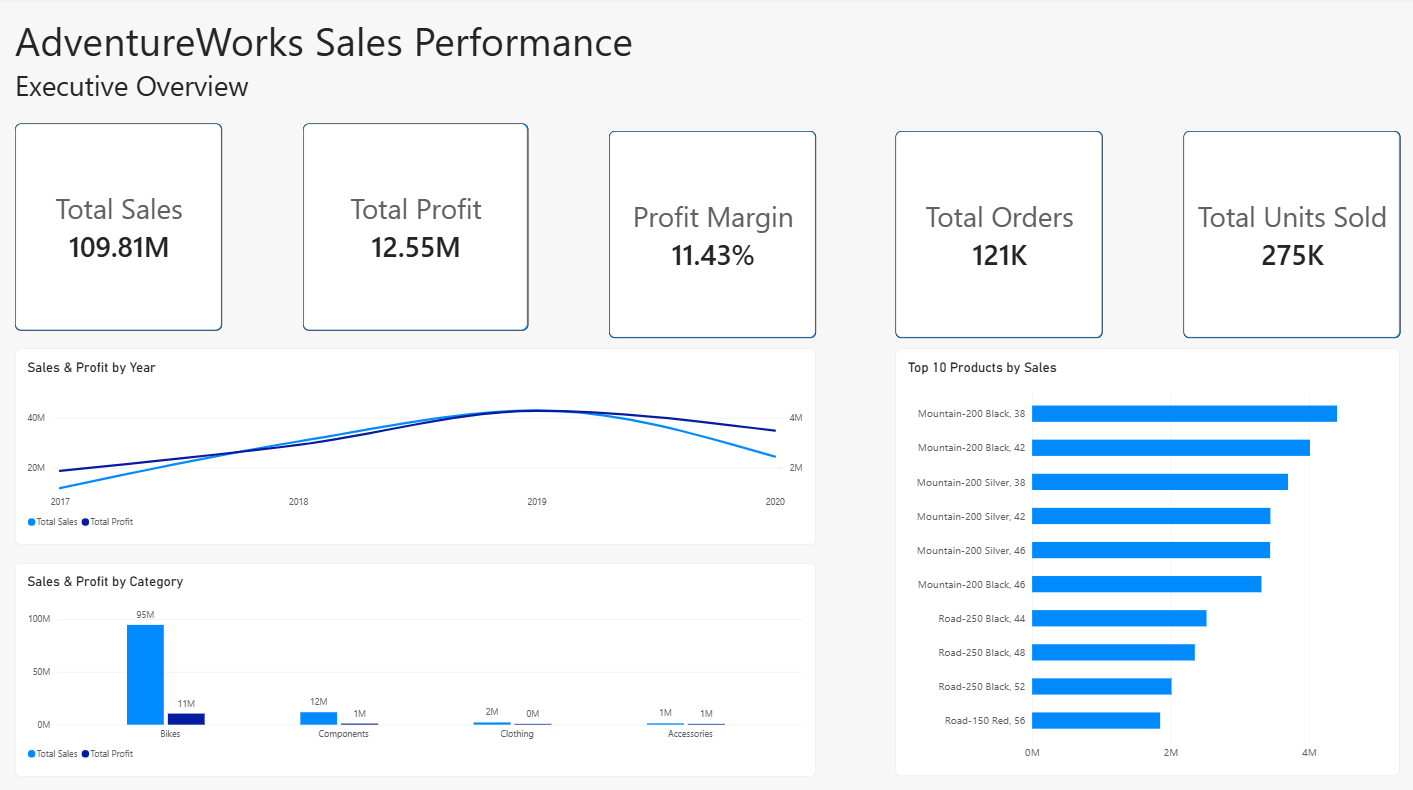

The dashboard page shown, as its layout file describes it:
{"tool":"powerbi","page":{"name":"Executive Overview","canvas":[1920,1080],"ordinal":0},"visuals":[{"type":"cardVisual","fields":{"Data":["Customer.Total Units Sold"]},"box":[1603.4,182.4,293.3,280.1],"z":0},{"type":"cardVisual","fields":{"Data":["Sales.Profit Margin"]},"box":[826.6,182.4,280,280],"z":1000},{"type":"cardVisual","fields":{"Data":["Sales.Total Orders"]},"box":[1215,182.4,280,280],"z":2000},{"type":"cardVisual","fields":{"Data":["Sales.Total Profit"]},"box":[413.2,172.2,304.9,280.1],"z":3000},{"type":"cardVisual","fields":{"Data":["Sales.Total Sales"]},"box":[24.8,172.2,280,280],"z":4000},{"type":"lineChart","title":"Sales & Profit by Year","fields":{"Category":["Date.Date.Variation.Date Hierarchy.Year"],"Y":["Sales.Total Sales"],"Y2":["Sales.Total Profit"]},"box":[24.8,477.1,1082.6,265.5],"z":5000},{"type":"clusteredColumnChart","title":"Sales & Profit by Category","fields":{"Category":["Product.Category"],"Y":["Sales.Total Sales","Sales.Total Profit"]},"box":[24.8,766,1082.6,288.9],"z":6000},{"type":"clusteredBarChart","title":"Top 10 Products by Sales","fields":{"Category":["Product.Product"],"Y":["Sales.Total Sales"]},"box":[1215.3,477.1,681.3,577.8],"z":7000},{"type":"textbox","box":[24.8,24.8,862.2,122.6],"z":8000}]}

Visuals, with their boxes in screenshot pixels (x1, y1, x2, y2), scaled from the page's 1920x1080 canvas onto the 1413x790 screenshot:
cardVisual - Customer.Total Units Sold: 1180/133/1396/338
cardVisual - Sales.Profit Margin: 608/133/814/338
cardVisual - Sales.Total Orders: 894/133/1100/338
cardVisual - Sales.Total Profit: 304/126/528/331
cardVisual - Sales.Total Sales: 18/126/224/331
"Sales & Profit by Year" lineChart: 18/349/815/543
"Sales & Profit by Category" clusteredColumnChart: 18/560/815/772
"Top 10 Products by Sales" clusteredBarChart: 894/349/1396/772
textbox: 18/18/653/108
